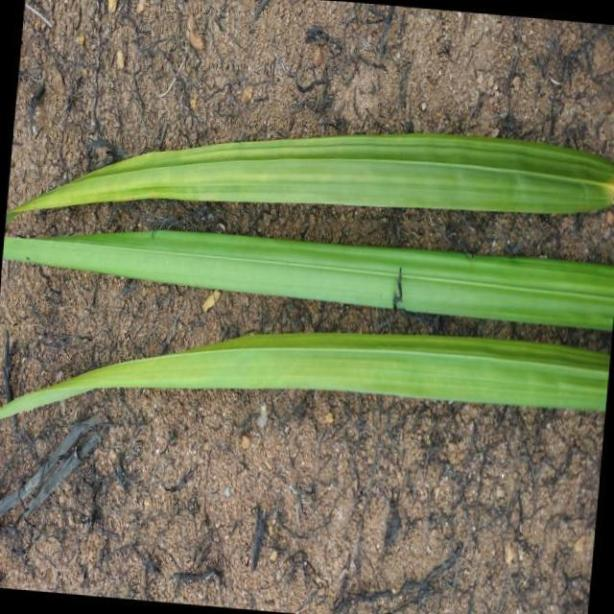nitrogen: (1, 227, 614, 332), (0, 330, 614, 421), (0, 130, 614, 214)
